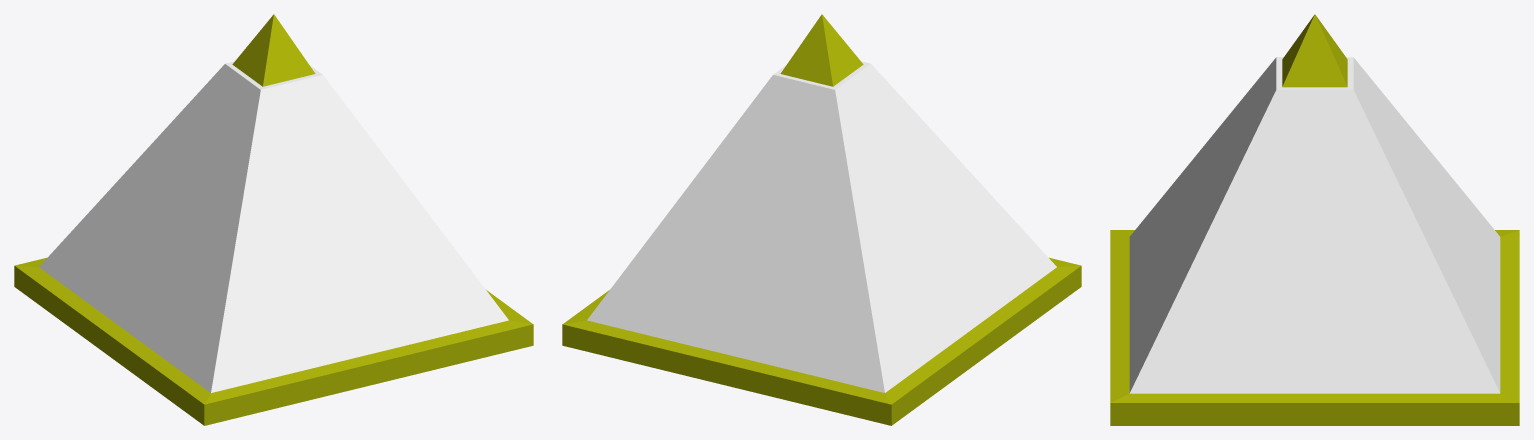
File: light_pyramid.gltf
3 renders of one model, left to right at view 1: azimuth 30°, elevation 25°; view 2: azimuth 150°, elevation 25°; view 3: azimuth 270°, elevation 25°, orthographic. The views are drawn at different scales.
Visible parts, largest first — view 1: Base, Tip; view 2: Base, Tip; view 3: Base, Tip.
Boxes of the visible parts, x1,y1,x2,y2 form: Base: (14,61,533,425); Tip: (232,14,315,86); Base: (562,61,1081,425); Tip: (780,14,863,86); Base: (1110,57,1519,425); Tip: (1282,14,1347,87).
Bounding box in the file's own units: 2.21 × 1.94 × 2.21.
